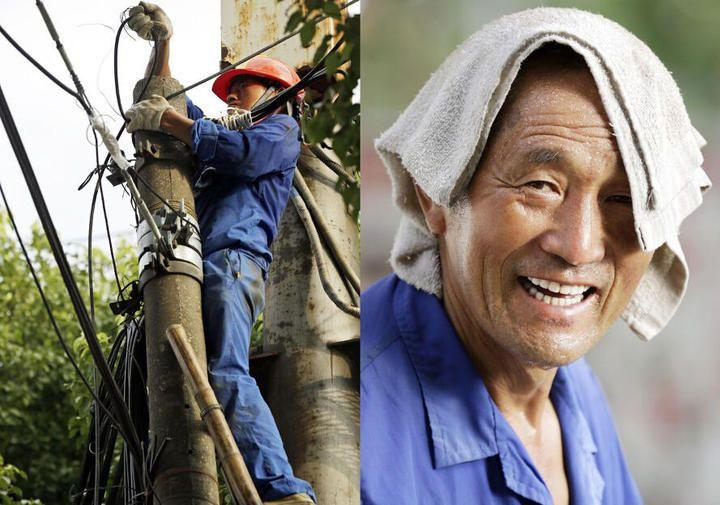helmet: (208, 54, 309, 99)
